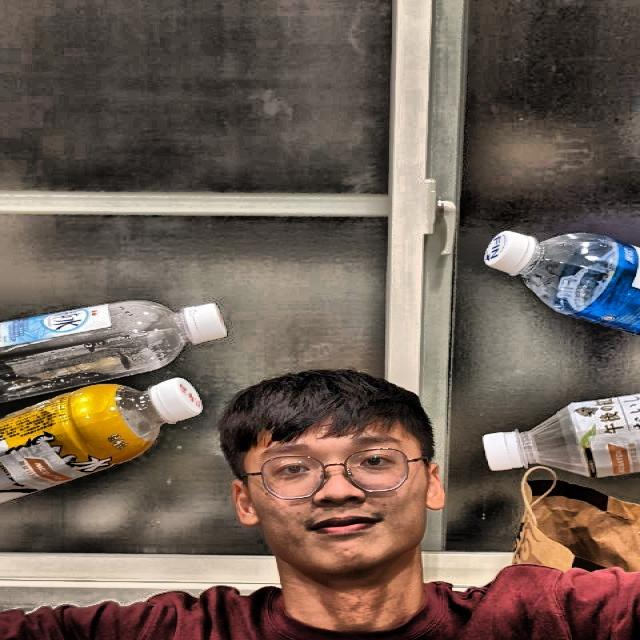plastic: (0, 377, 192, 549), (0, 289, 245, 413), (469, 212, 640, 361), (493, 362, 640, 497)
